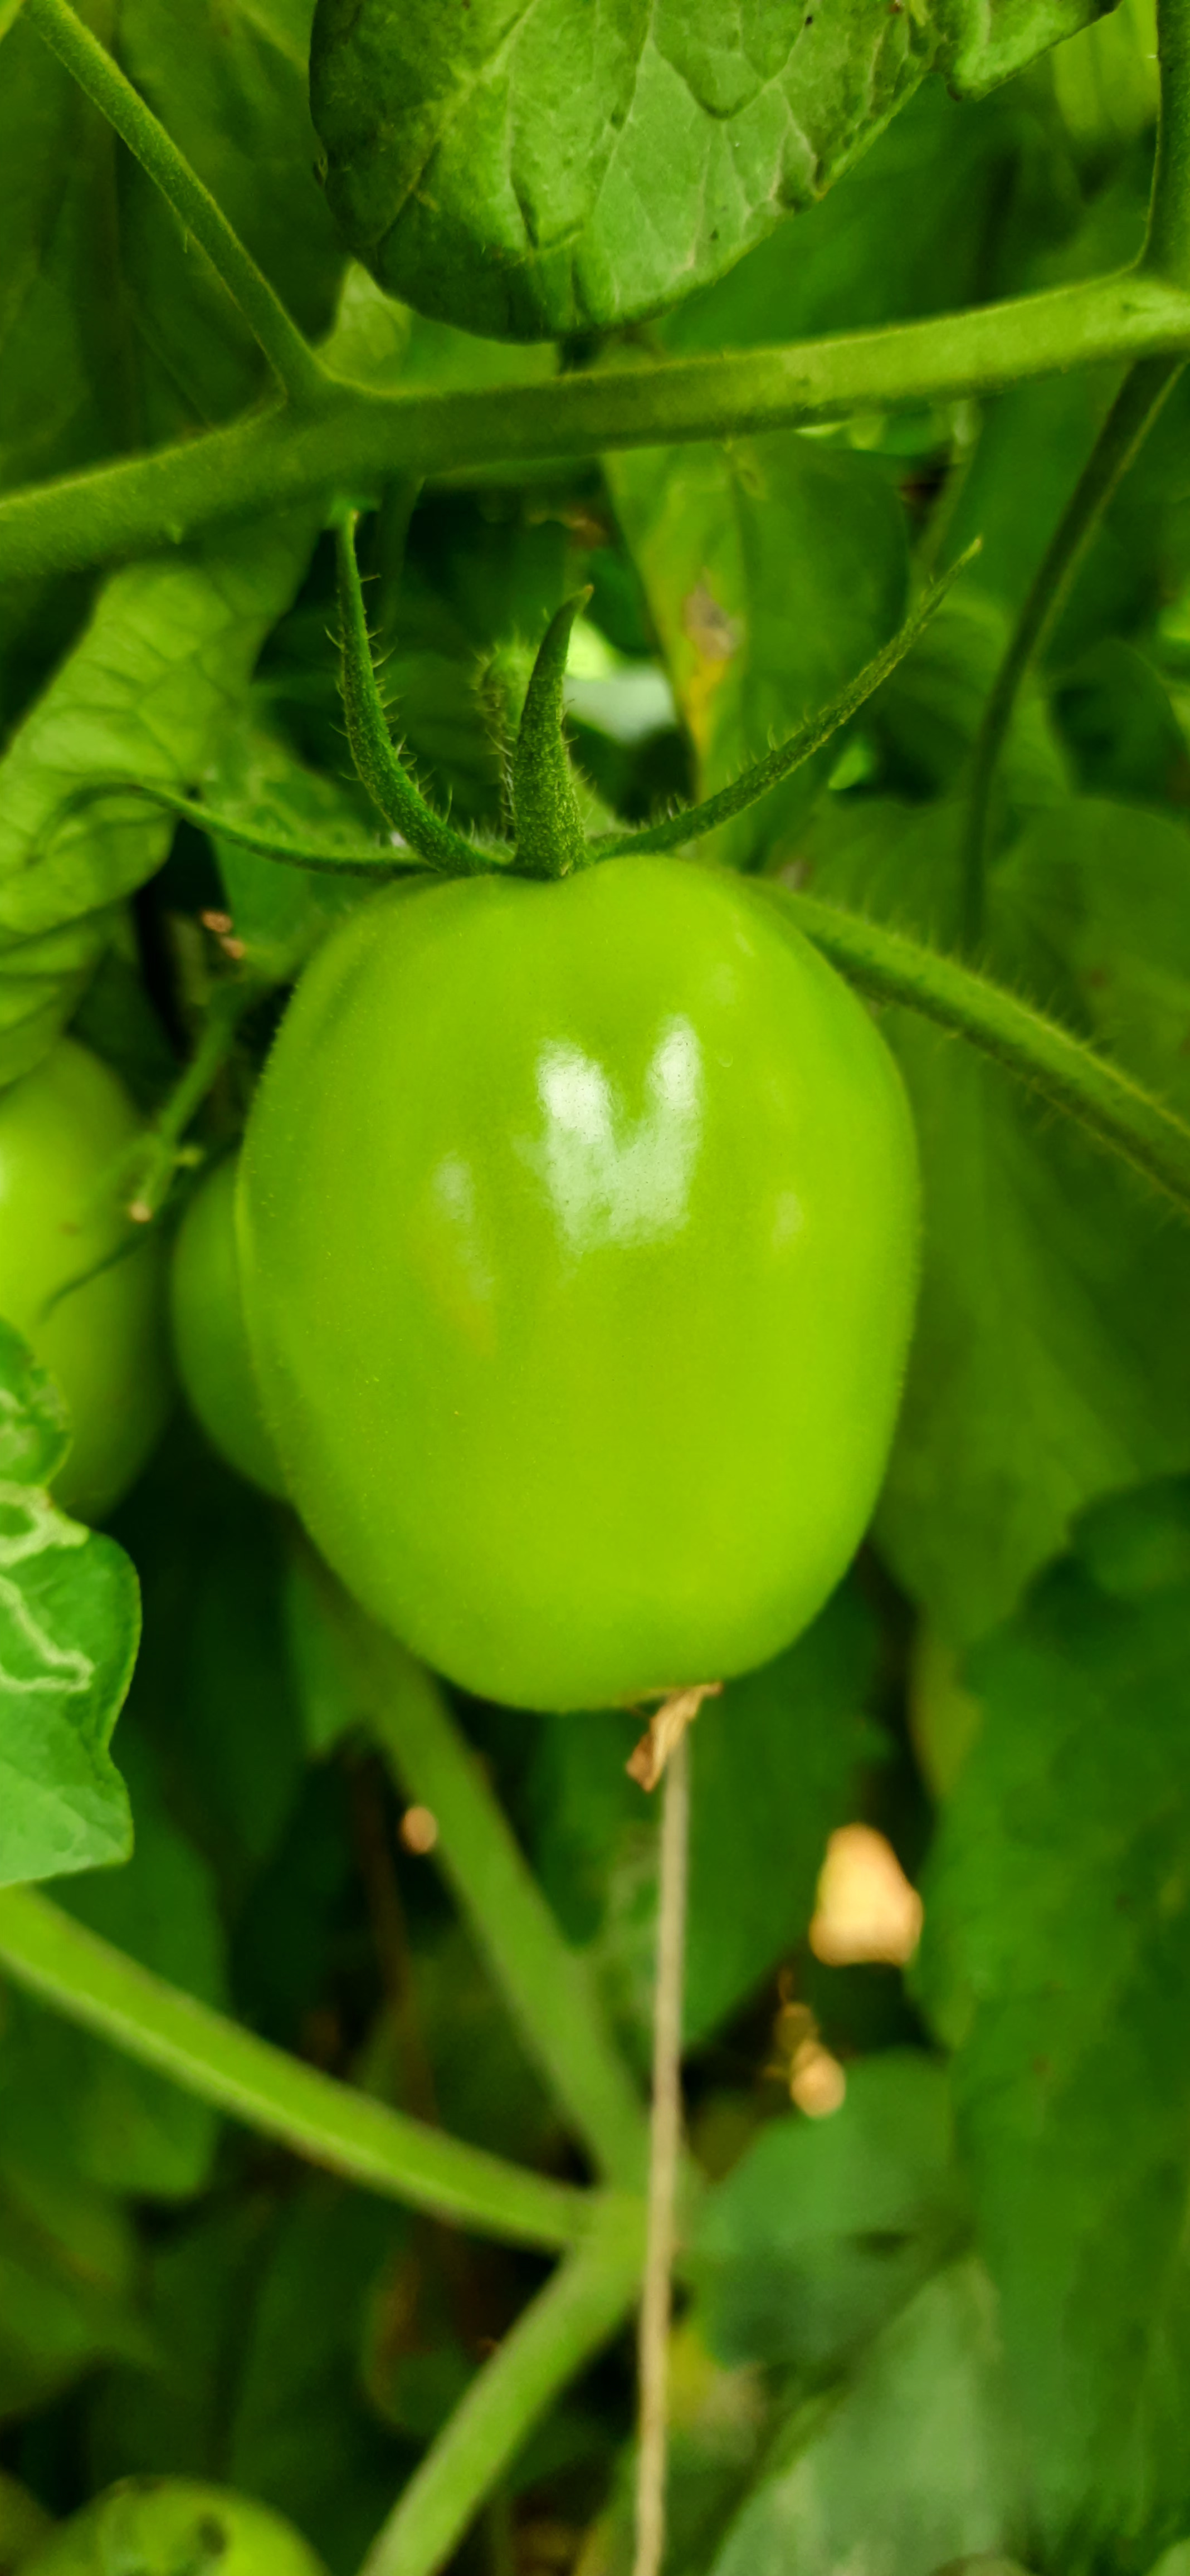raw_tomato: (204, 728, 1160, 1897)
